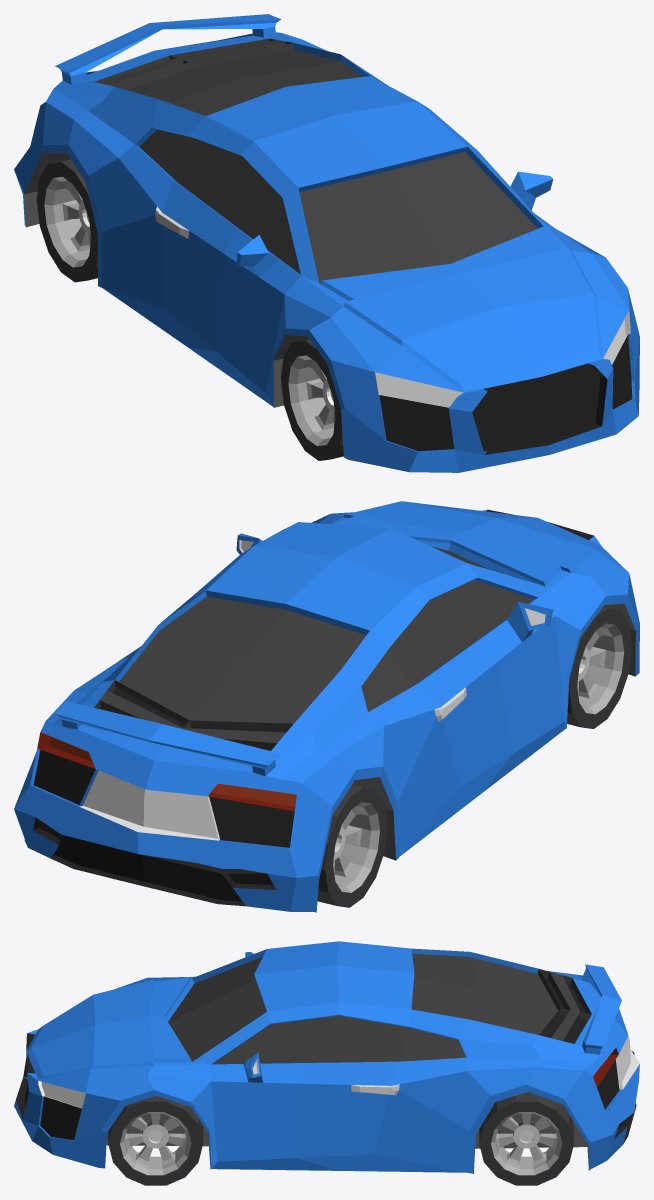
File: audir8v10plus.fbx
3 views of the same model, one above another, from view 1: azimuth 30°, elevation 25°; view 2: azimuth 150°, elevation 25°; view 3: azimuth 270°, elevation 25° (orthographic). The views are drawn at different scales.
Visible parts, largest first — view 1: BlueBody, BackRight, FrontRight; view 2: BlueBody, BackRight, FrontRight; view 3: BlueBody, BackLeft, FrontLeft.
Part boxes in pixels (x1,y1,x2,y2): BlueBody: (14,14,639,472); BackRight: (36,158,97,282); FrontRight: (280,338,343,460); BlueBody: (14,501,639,912); BackRight: (317,783,387,907); FrontRight: (567,606,631,728); BlueBody: (14,941,639,1173); BackLeft: (479,1091,573,1185); FrontLeft: (108,1096,203,1185).
Bounding box in the file's own units: 1.94 × 4.43 × 1.3.
